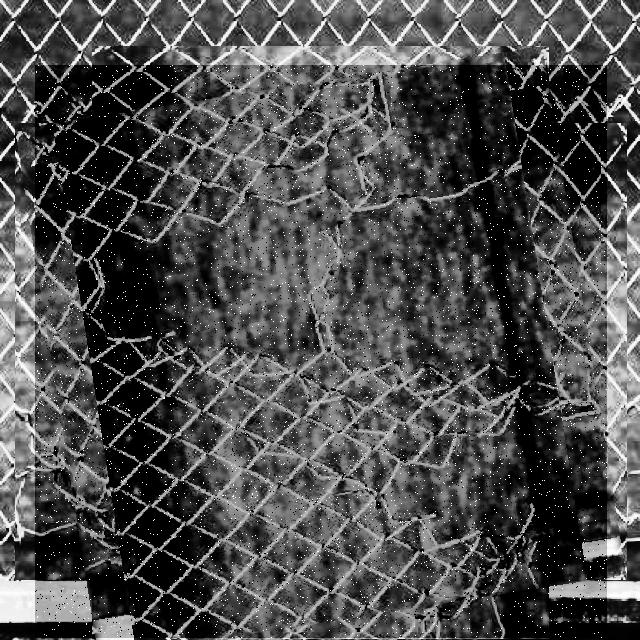anomaly-fence: (35, 65, 607, 638)
